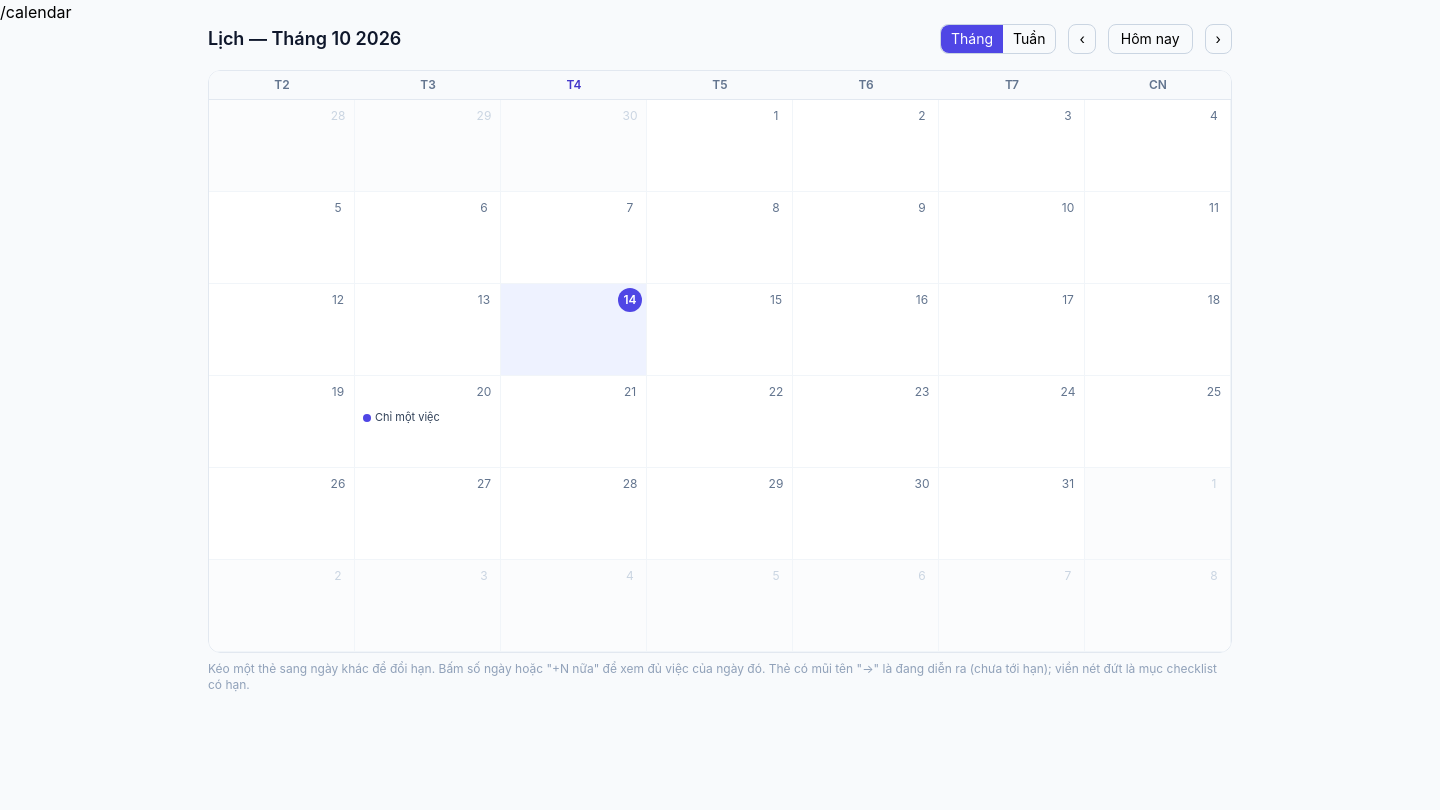
it: CalendarPage › opens the same dialog from the day number, and not for an empty day
This screenshot has width=1440, height=810.
Expected: the text "Chỉ một việc" is shown, x1=375 y1=410 x2=440 y2=426
What coordinates should you click on to do the following:
click the button named "Xem 1 việc ngày 20/10"
I would click on:
 (484, 392)
Its box is x1=472 y1=380 x2=496 y2=404.
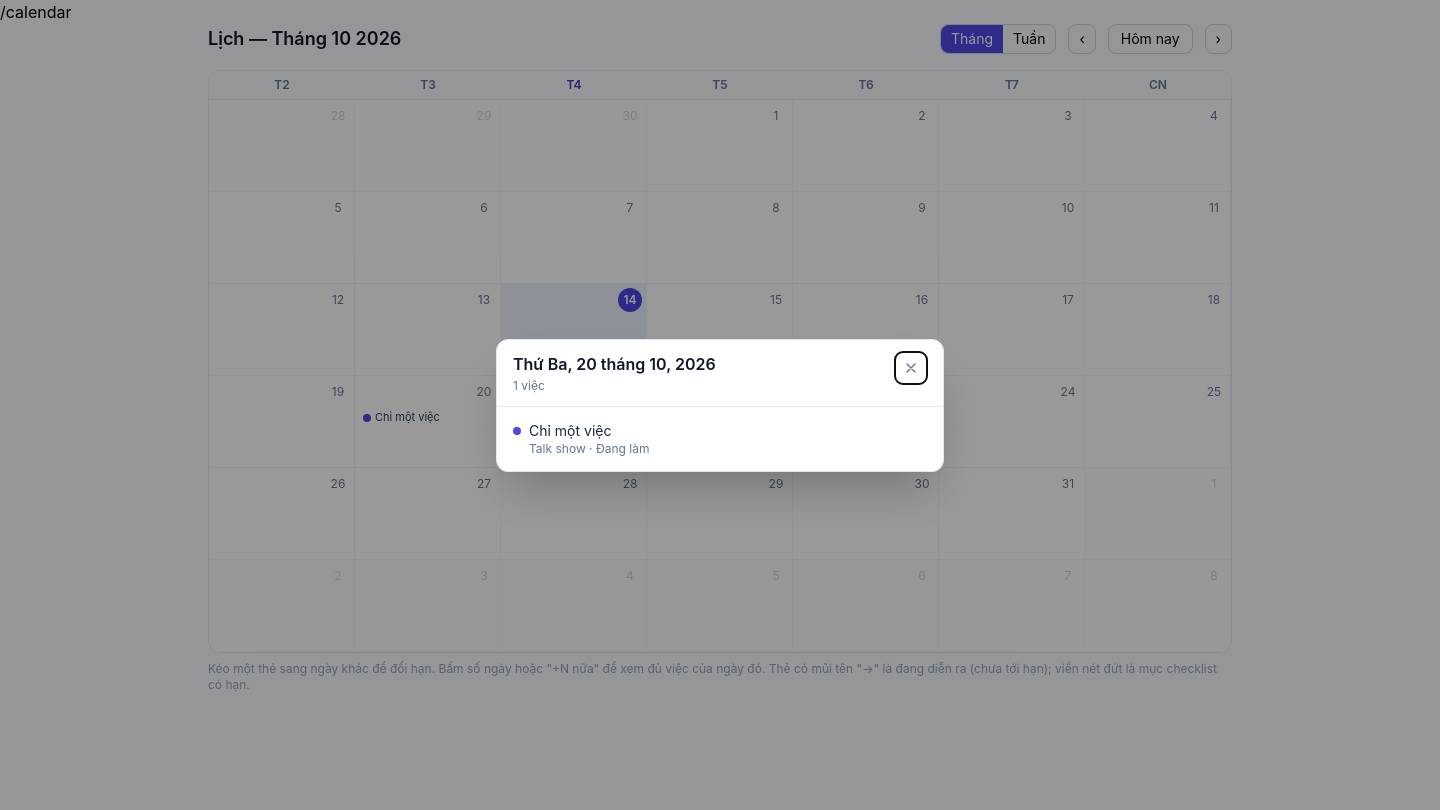
Expected: the text "Chỉ một việc" is shown, x1=529 y1=422 x2=611 y2=438
